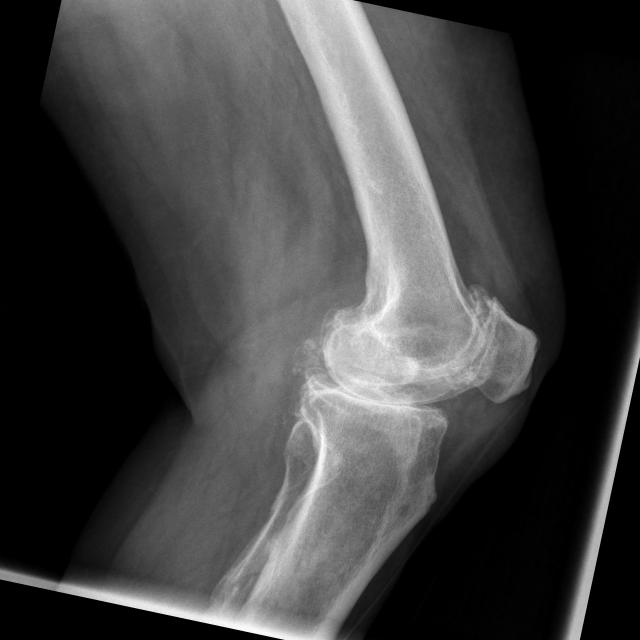Knee: (284, 250, 550, 514)
